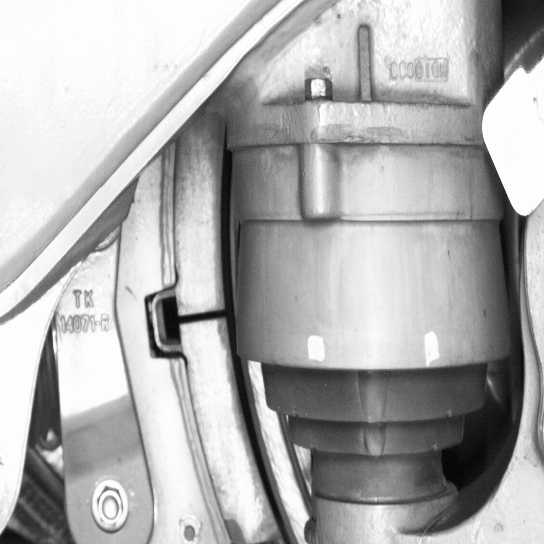KnifeSwitch: (158, 147, 301, 541)
